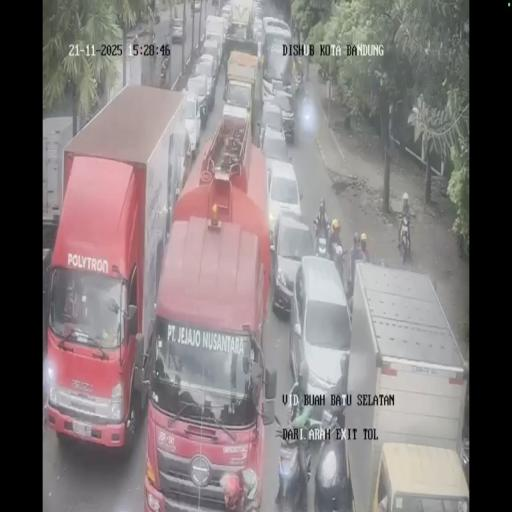3: (44, 83, 194, 456), (341, 260, 467, 510), (261, 18, 293, 92), (171, 5, 185, 43)
car: (289, 257, 351, 430), (265, 162, 302, 245), (221, 78, 254, 137), (263, 86, 296, 144), (185, 73, 211, 129), (199, 39, 221, 84), (252, 16, 264, 50), (220, 3, 232, 28), (252, 0, 262, 20)
truck: (397, 218, 411, 264), (333, 244, 348, 284), (314, 229, 332, 262), (293, 64, 304, 95)
